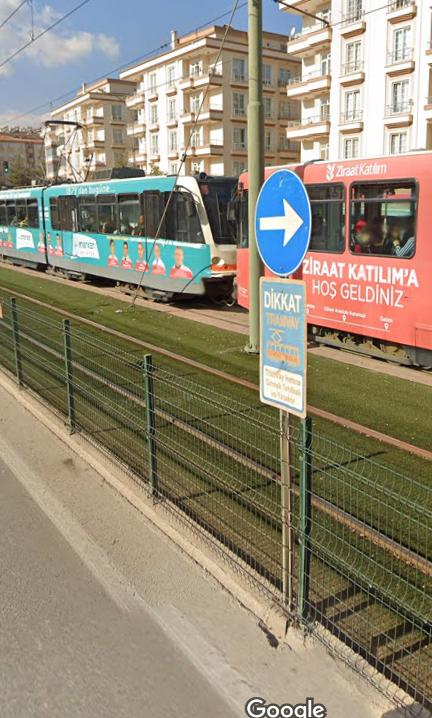turnright: (252, 171, 311, 277)
